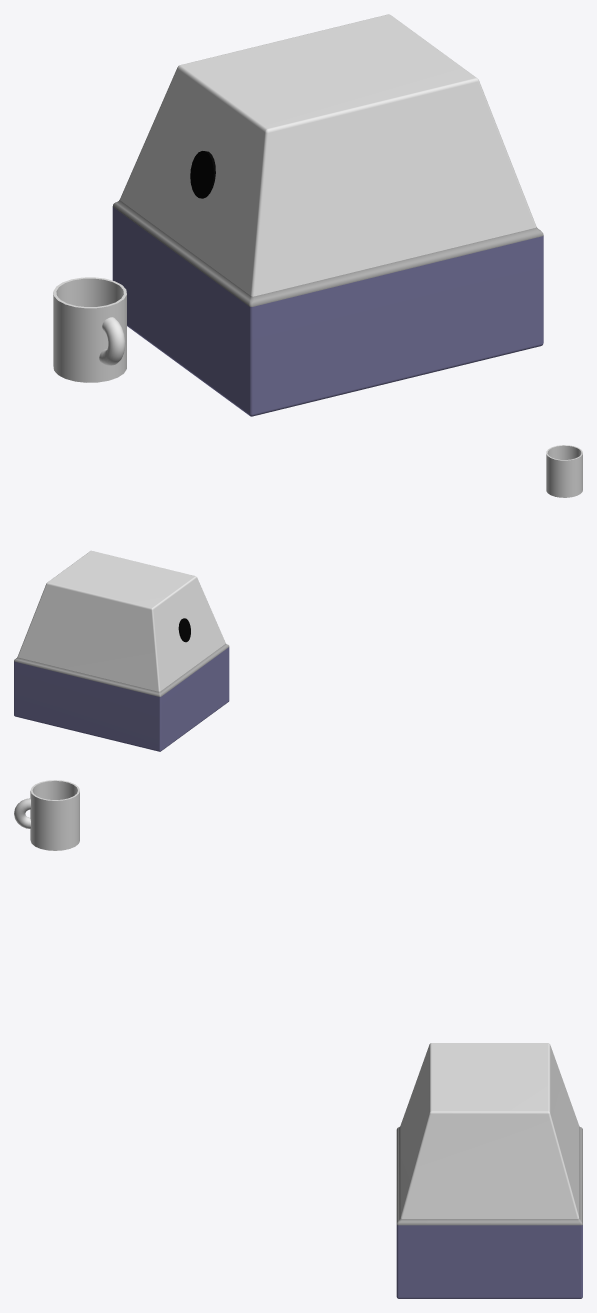
File: sharpneeer and mug.fbx
The picture shows the model from 3 angles, top to bottom: view 1: azimuth 30°, elevation 25°; view 2: azimuth 150°, elevation 25°; view 3: azimuth 270°, elevation 25°; orthographic projection. The views are drawn at different scales.
Visible parts, largest first — view 1: sharpener_, polySurface2; view 2: sharpener_, polySurface2; view 3: sharpener_, polySurface2.
Boxes of the visible parts, <box> form: sharpener_: <box>112,14,543,416</box>; polySurface2: <box>53,277,126,382</box>; sharpener_: <box>14,550,229,751</box>; polySurface2: <box>546,445,582,497</box>; sharpener_: <box>396,1043,582,1298</box>; polySurface2: <box>14,780,79,850</box>.
Bounding box in the file's own units: 3.49 × 1.86 × 3.45.
